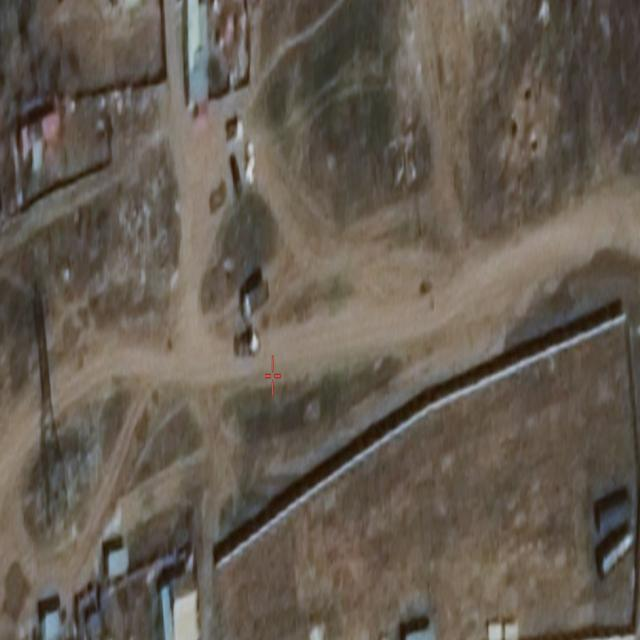crack: (417, 272, 436, 309)
damage: (188, 0, 253, 107)
old_road: (0, 180, 640, 614), (160, 0, 419, 319)
